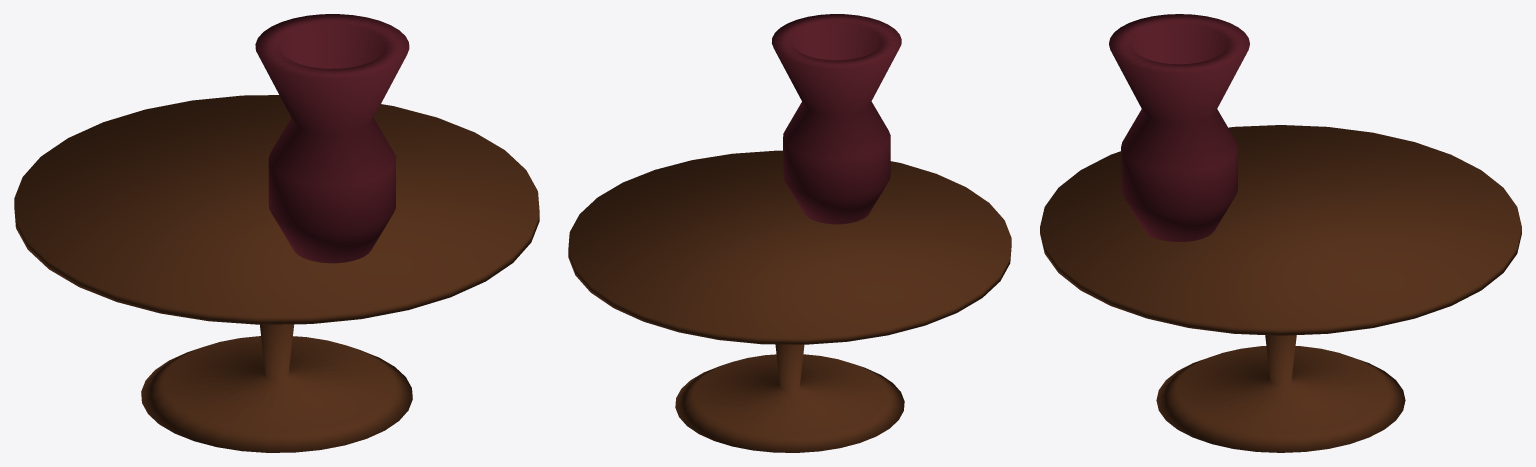
Rendered from table.fbx.
The picture shows the model from 3 angles, left to right: view 1: azimuth 30°, elevation 25°; view 2: azimuth 150°, elevation 25°; view 3: azimuth 270°, elevation 25°; orthographic projection. The views are drawn at different scales.
Parts seen in each view (by area): view 1: Table, Vase; view 2: Table, Vase; view 3: Table, Vase.
Boxes of the visible parts, <box> form: Table: <box>14,95,539,452</box>; Vase: <box>255,14,409,263</box>; Table: <box>568,150,1011,452</box>; Vase: <box>772,14,901,224</box>; Table: <box>1040,125,1521,452</box>; Vase: <box>1109,14,1249,242</box>.
Size of the model in its own units: 1362 by 1112 by 1362.
